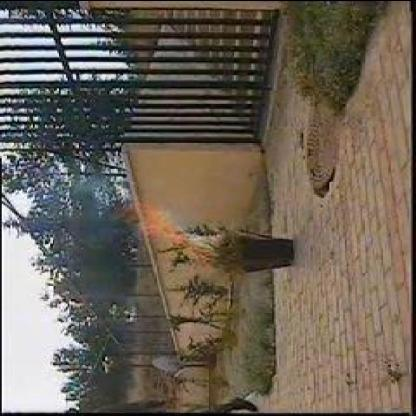foggia-v2-map80-epoch100 - v1 4323: (135, 215, 179, 249)
